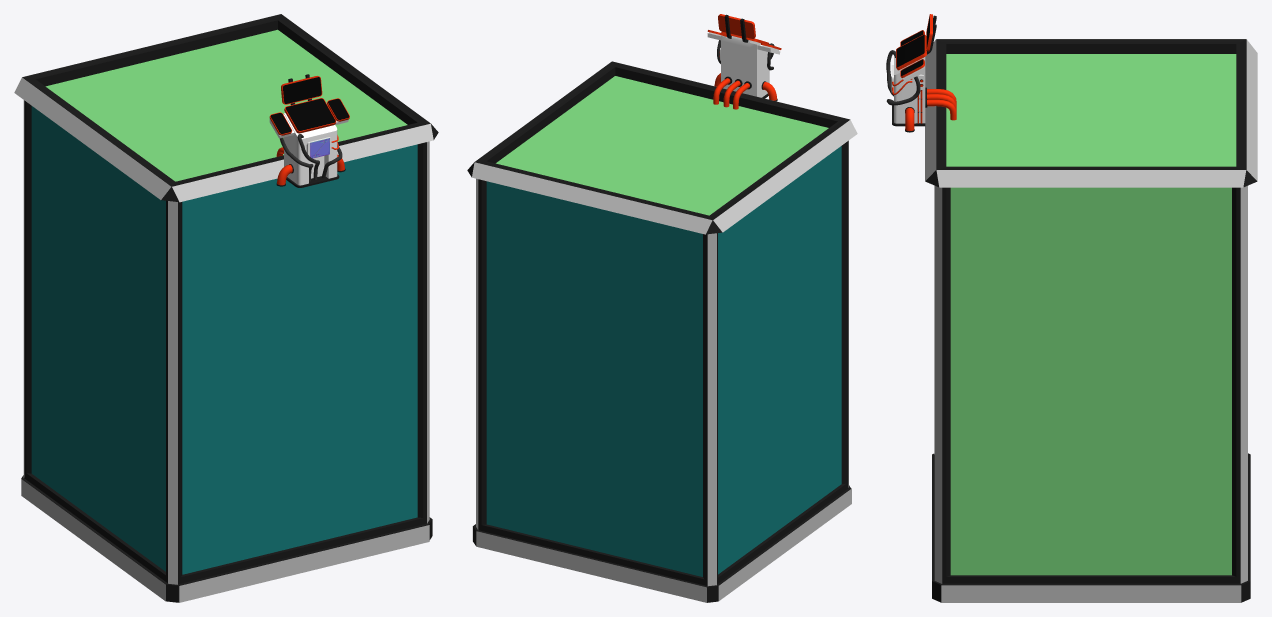
The model's file is S_assete_cuve_2.fbx.
3 views of the same model, side by side, from view 1: azimuth 30°, elevation 25°; view 2: azimuth 150°, elevation 25°; view 3: azimuth 270°, elevation 25° (orthographic). The views are drawn at different scales.
Visible parts, largest first — view 1: Box002; view 2: Box002; view 3: Box002.
Part boxes in pixels (bbox=[...]): Box002: bbox=[14, 14, 438, 602]; Box002: bbox=[467, 14, 857, 602]; Box002: bbox=[886, 14, 1257, 602].
Size of the model in its own units: 426 by 725 by 475.
